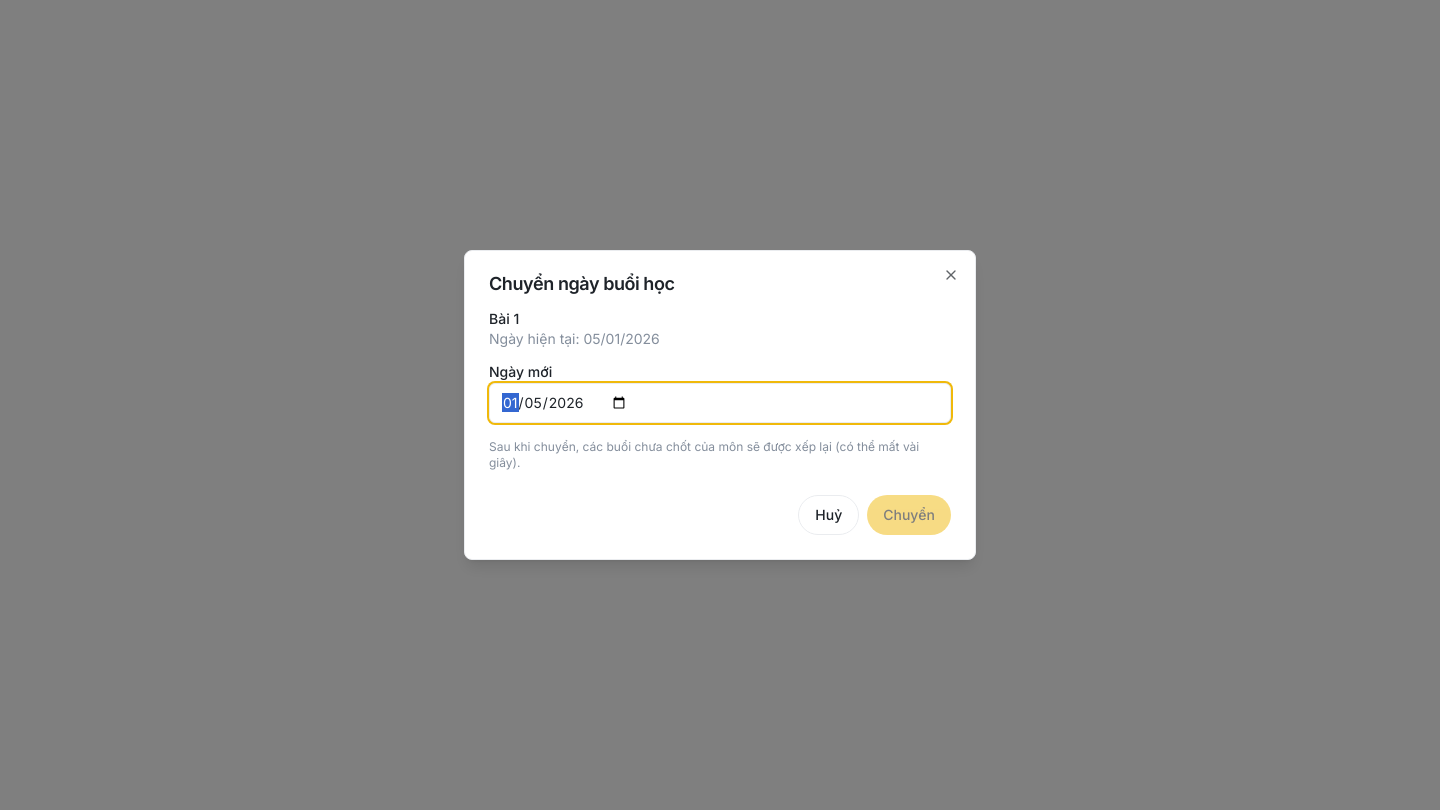
Scenario: chặn gửi sai › có ngày mới hợp lệ thì nút "Chuyển" bật
In the date field labelled "Ngày mới": (720, 403) [489,383,951,423], type "2026-01-22"
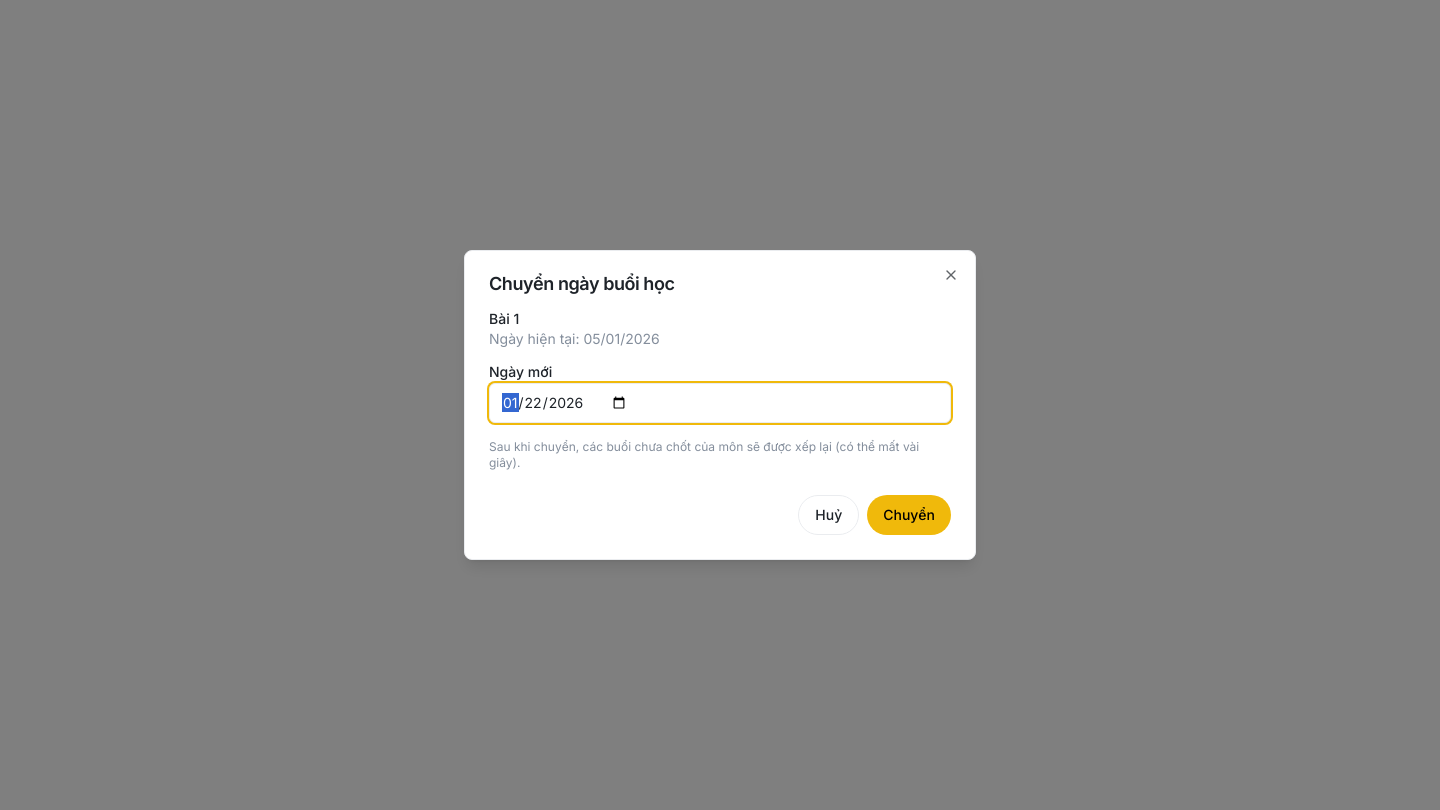
Check: the button "Chuyển" is enabled, box [867,495,951,535]
